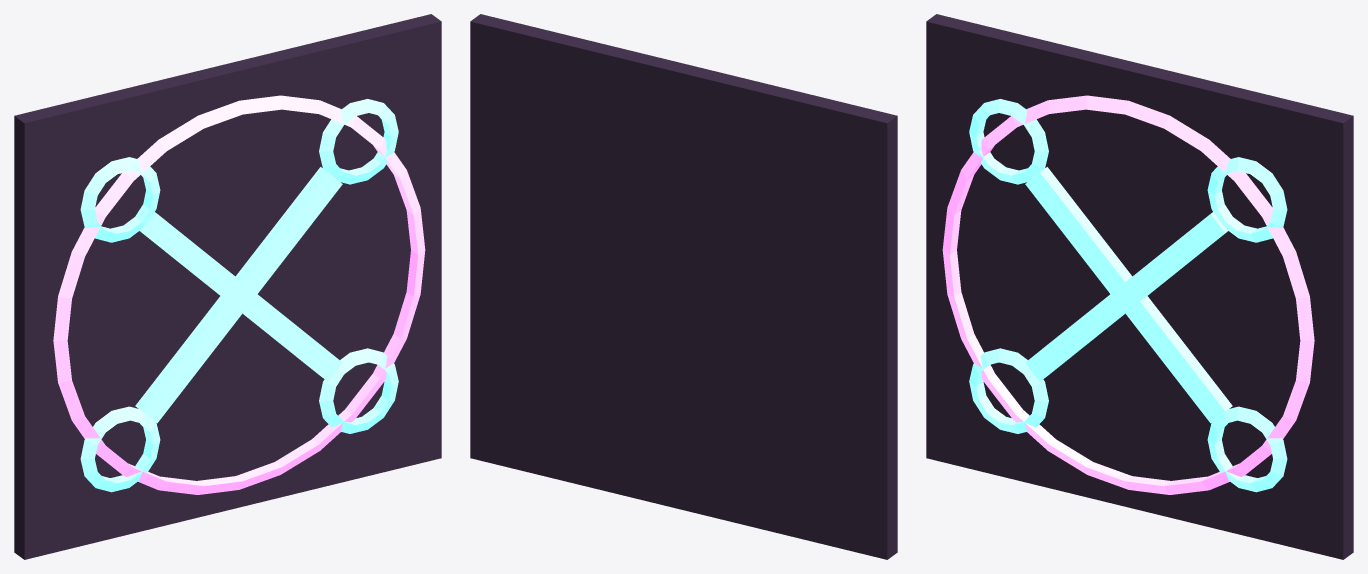
The model's file is neon_wrench.glb.
The picture shows the model from 3 angles, left to right: view 1: azimuth 30°, elevation 25°; view 2: azimuth 150°, elevation 25°; view 3: azimuth 330°, elevation 25°; orthographic projection.
Parts seen in each view (by area): view 1: neon_wrench; view 2: neon_wrench; view 3: neon_wrench.
Boxes of the visible parts, box(x1,y1,x2,y2) form: neon_wrench: box(14, 14, 441, 559); neon_wrench: box(470, 14, 897, 559); neon_wrench: box(926, 14, 1353, 559).
Size of the model in its own units: 0.7 by 0.7 by 0.0594.
